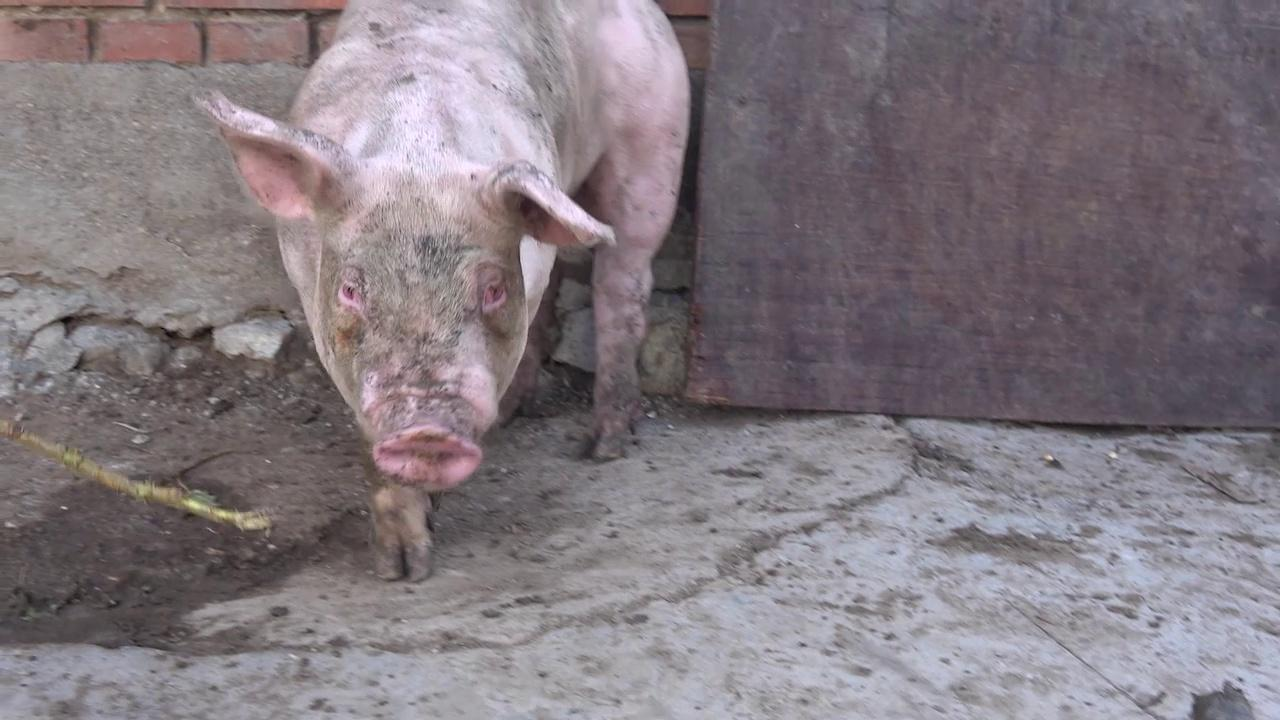Face: (180, 85, 621, 501)
